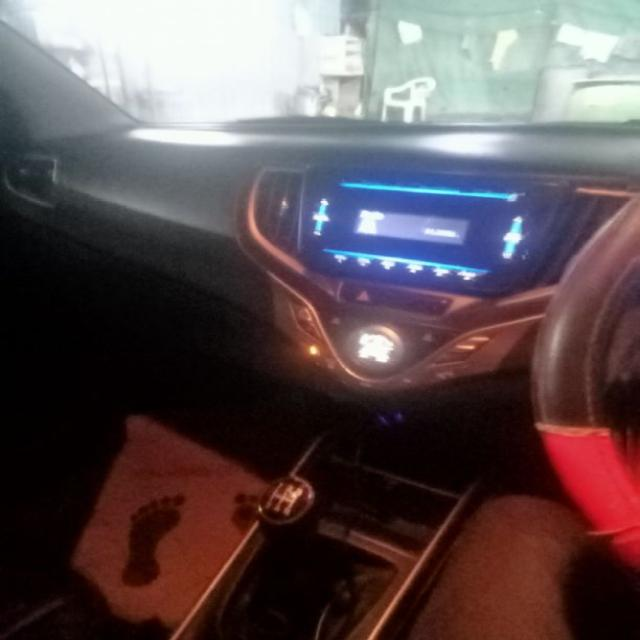license_plate: (167, 427, 490, 639), (293, 162, 575, 298)
